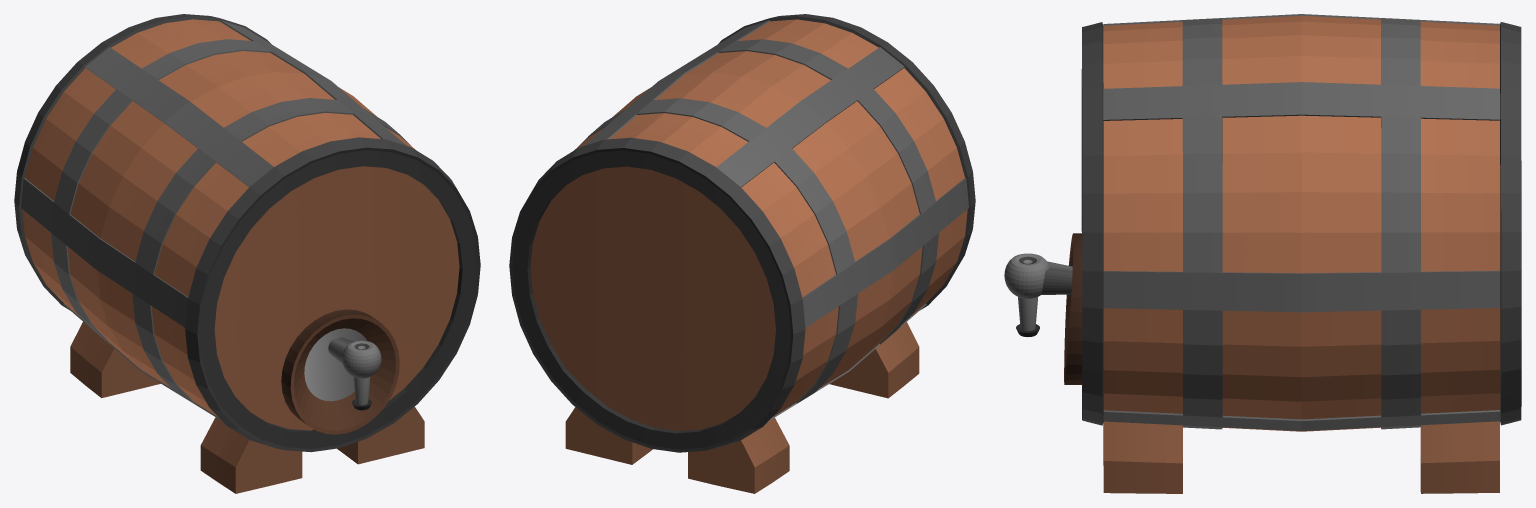
File: Small Light Cask.fbx
3 renders of one model, left to right at view 1: azimuth 30°, elevation 25°; view 2: azimuth 150°, elevation 25°; view 3: azimuth 270°, elevation 25°, orthographic. The views are drawn at different scales.
Visible parts, largest first — view 1: Small Light Cask; view 2: Small Light Cask; view 3: Small Light Cask.
Boxes of the visible parts, left/top/right/bottom form: Small Light Cask: left=14, top=14, right=480, bottom=493; Small Light Cask: left=509, top=14, right=975, bottom=493; Small Light Cask: left=1004, top=14, right=1521, bottom=493.
Bounding box in the file's own units: 167 × 195 × 158.
1 material, 1 textured.
